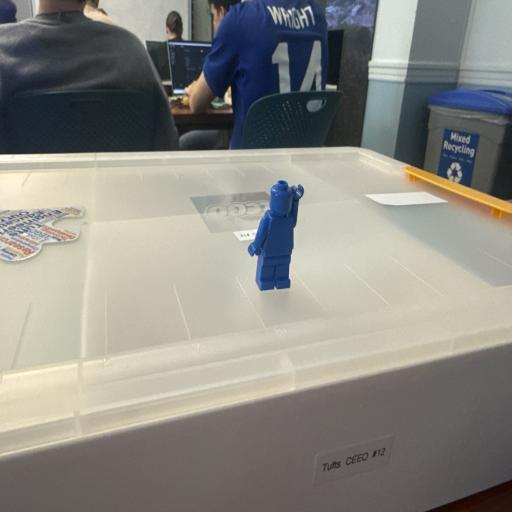Minifig: (248, 180, 298, 289)
